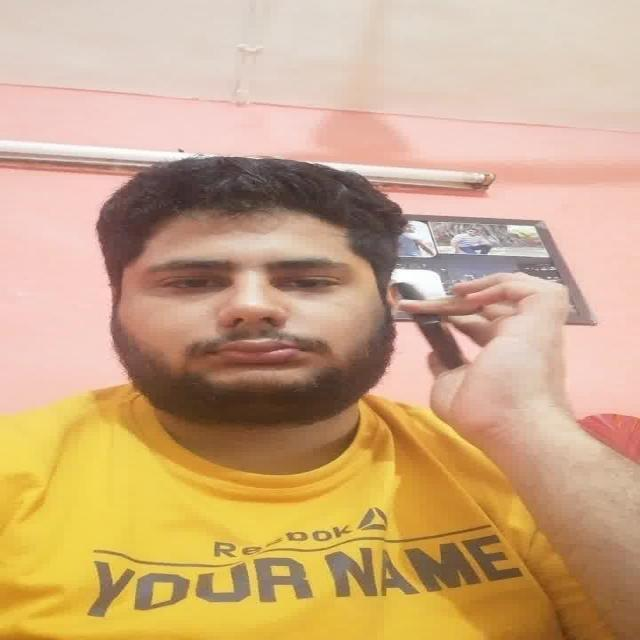Phone: (393, 282, 467, 370)
